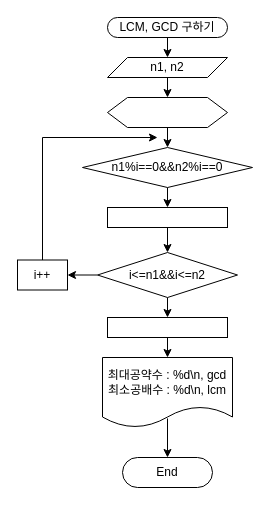
Some shapes in this 270 by 505 pixel diagram are drawn without their labels. The shapes that lost their labels are listed below. From the top down, each one's box as (x1, y1, x2, y2) in pixels, then its label:
(106, 96, 228, 128): i=1, lcm=0, gcd=0
(106, 206, 228, 228): gcd = 0
(106, 316, 228, 338): lcm=n1*n2/gcd
